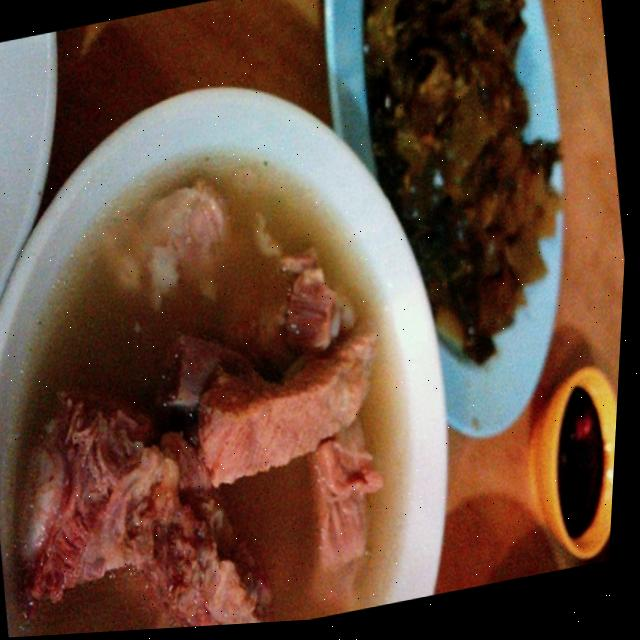汤锅炖物: (0, 17, 522, 640)
